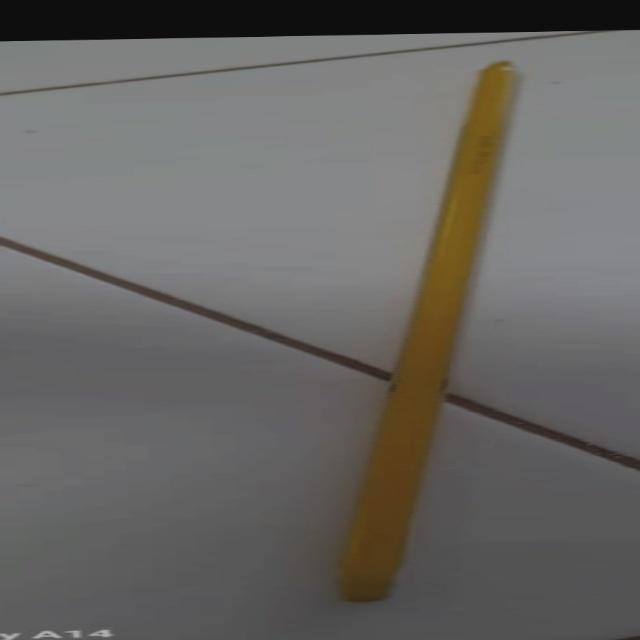Thermometer: (284, 58, 602, 606)
